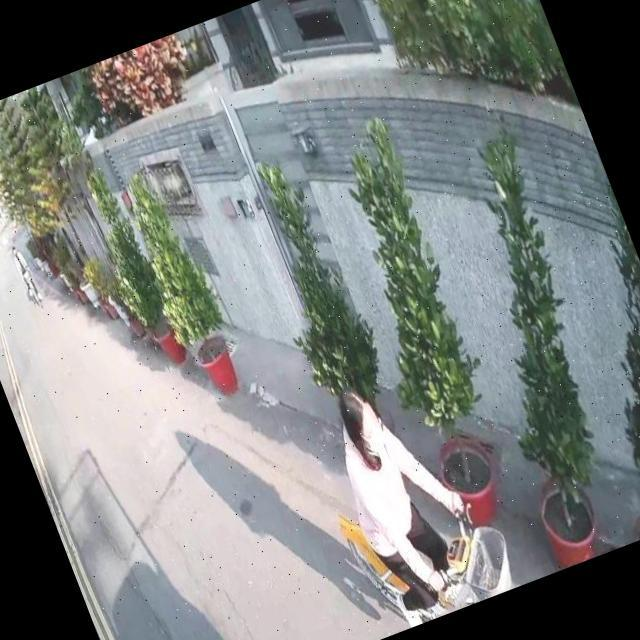person: (310, 355, 504, 632), (8, 240, 44, 306)
